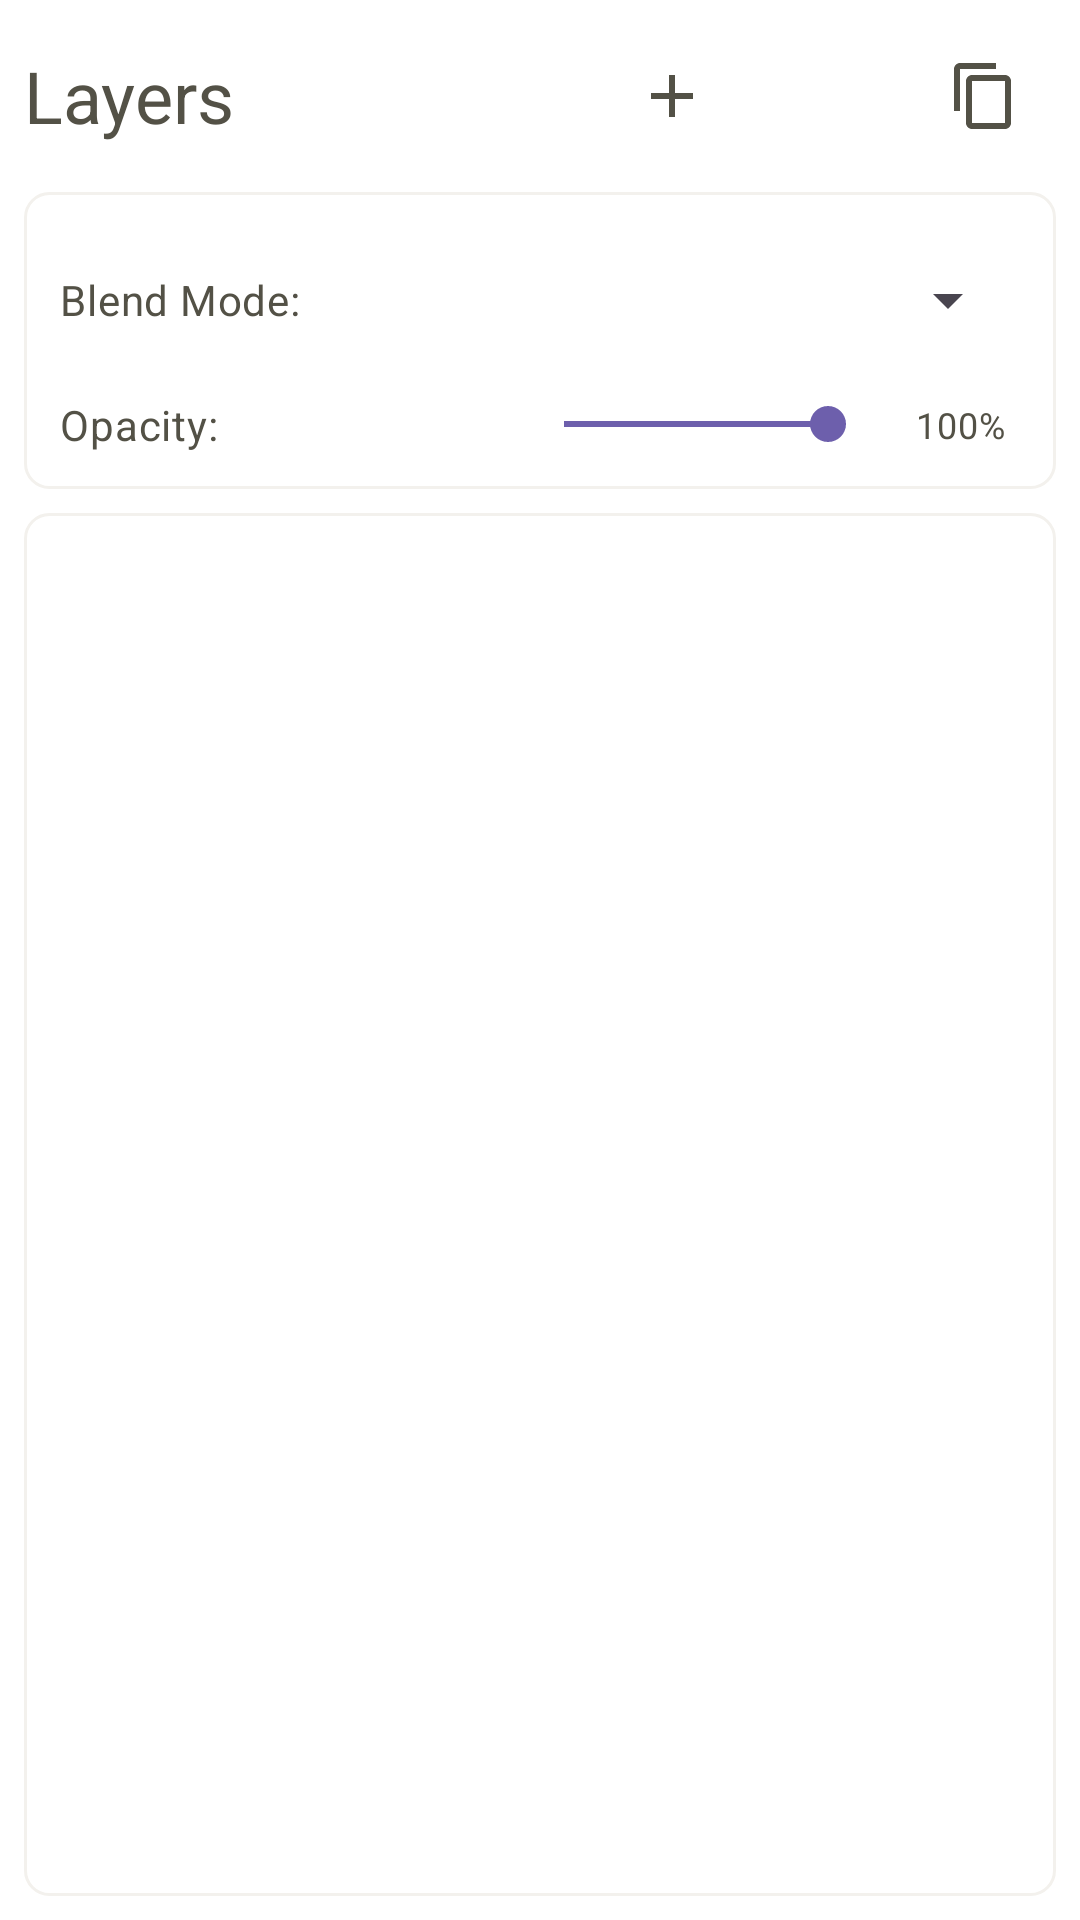

Screen size 1080*1920. Icon name, then its center in pixels as (x,y):
Add Layer: (672,96)
Duplicate Layer: (982,96)
